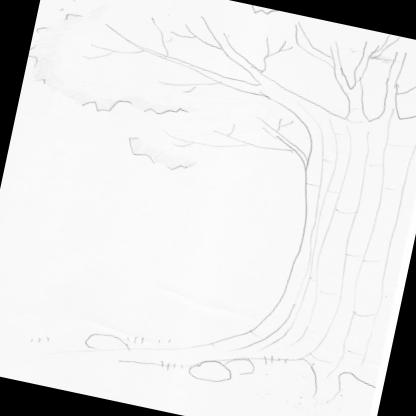branch_cut: (91, 0, 416, 152)
root_upside: (81, 287, 390, 416)
trunk_bark: (269, 167, 416, 338)
